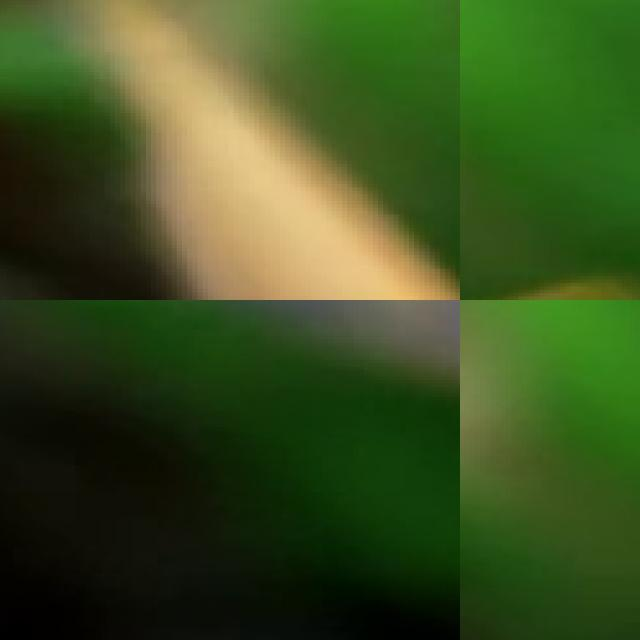fish: (0, 0, 460, 300), (0, 300, 460, 417), (460, 63, 640, 300)
